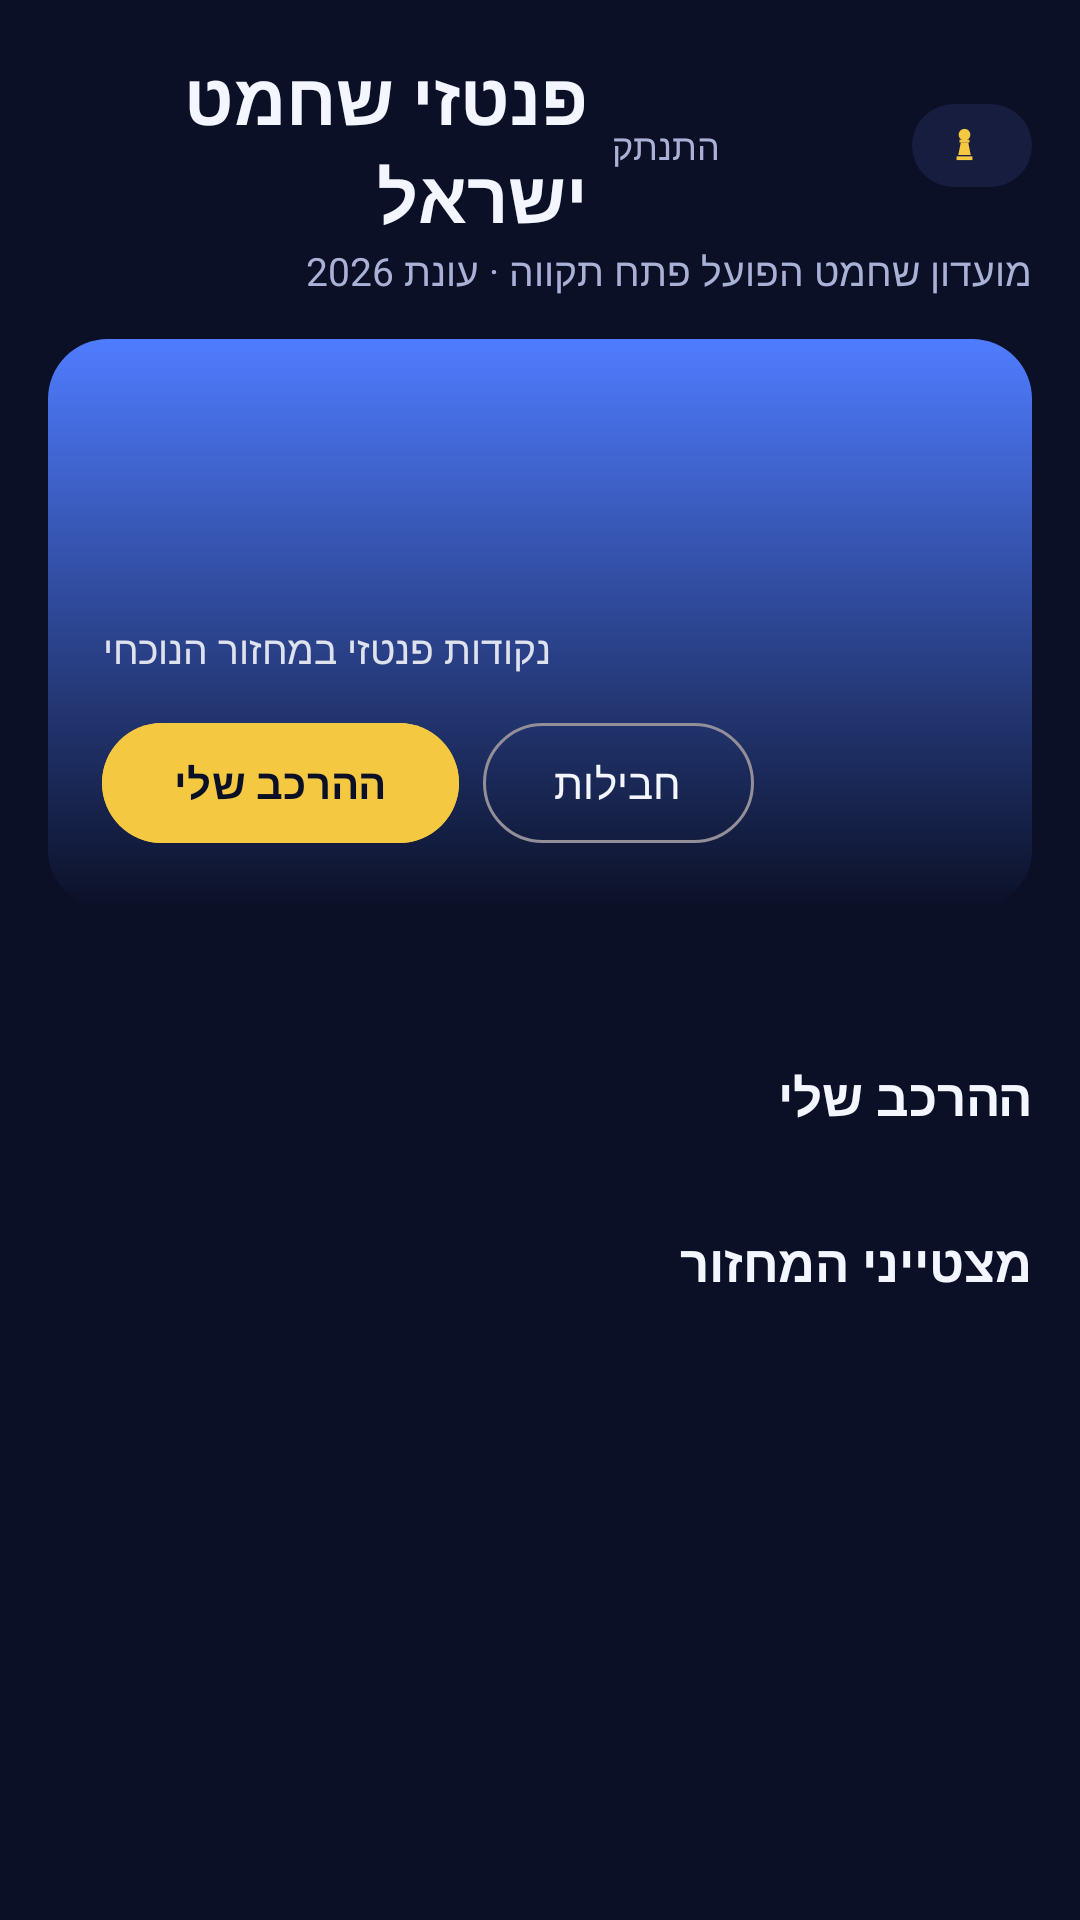

Point at icon controls on the screen. Image size 1080px×1920px, points as point (x, y).
פיונים: point (964, 144)
